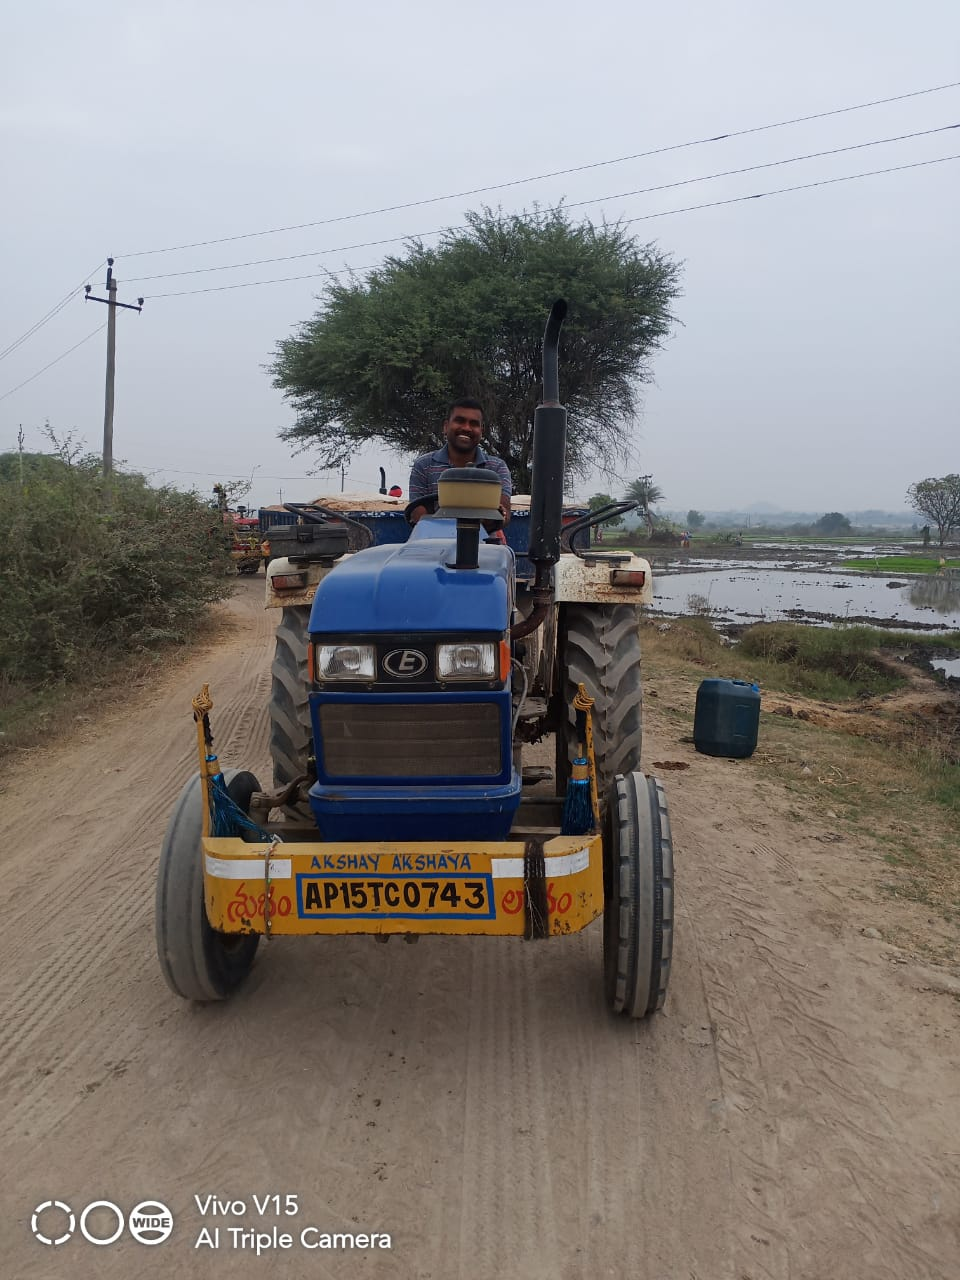license_plate: (294, 870, 496, 925)
